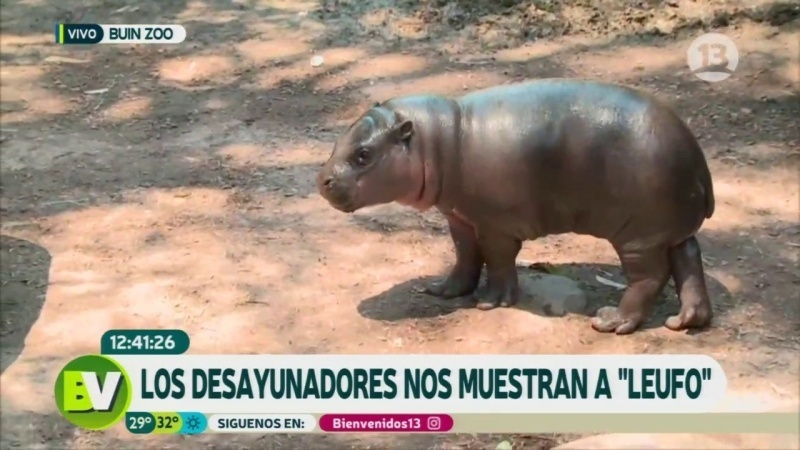hipopotamo: (310, 84, 740, 352)
